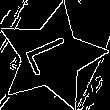L_NE: (21, 33, 81, 81)
